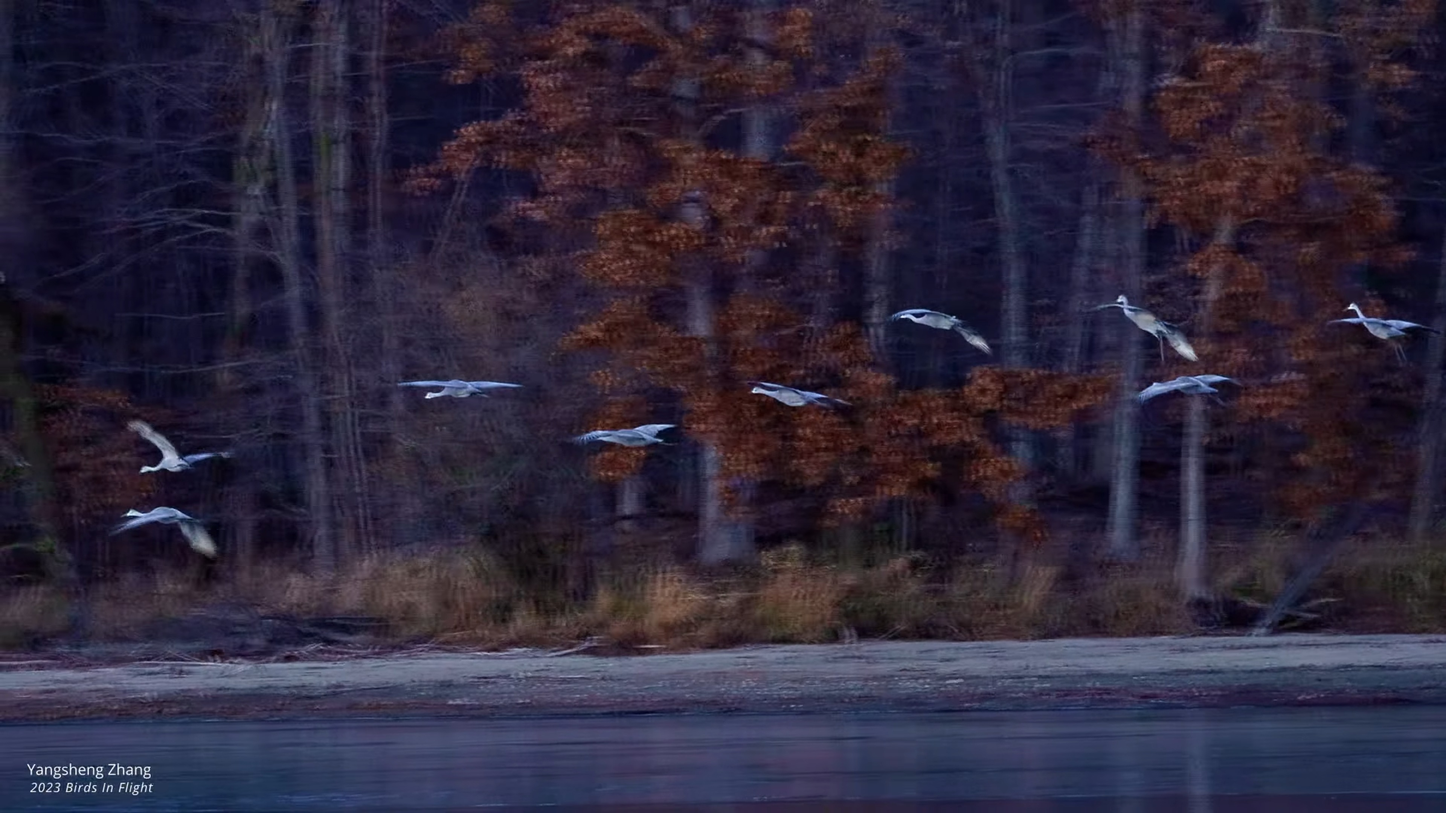not_drone: (1089, 292, 1224, 359), (108, 409, 241, 475), (880, 301, 1013, 364), (106, 503, 230, 567), (1340, 292, 1432, 376), (554, 414, 700, 462), (388, 369, 531, 411), (733, 369, 850, 414), (1123, 370, 1247, 409)
